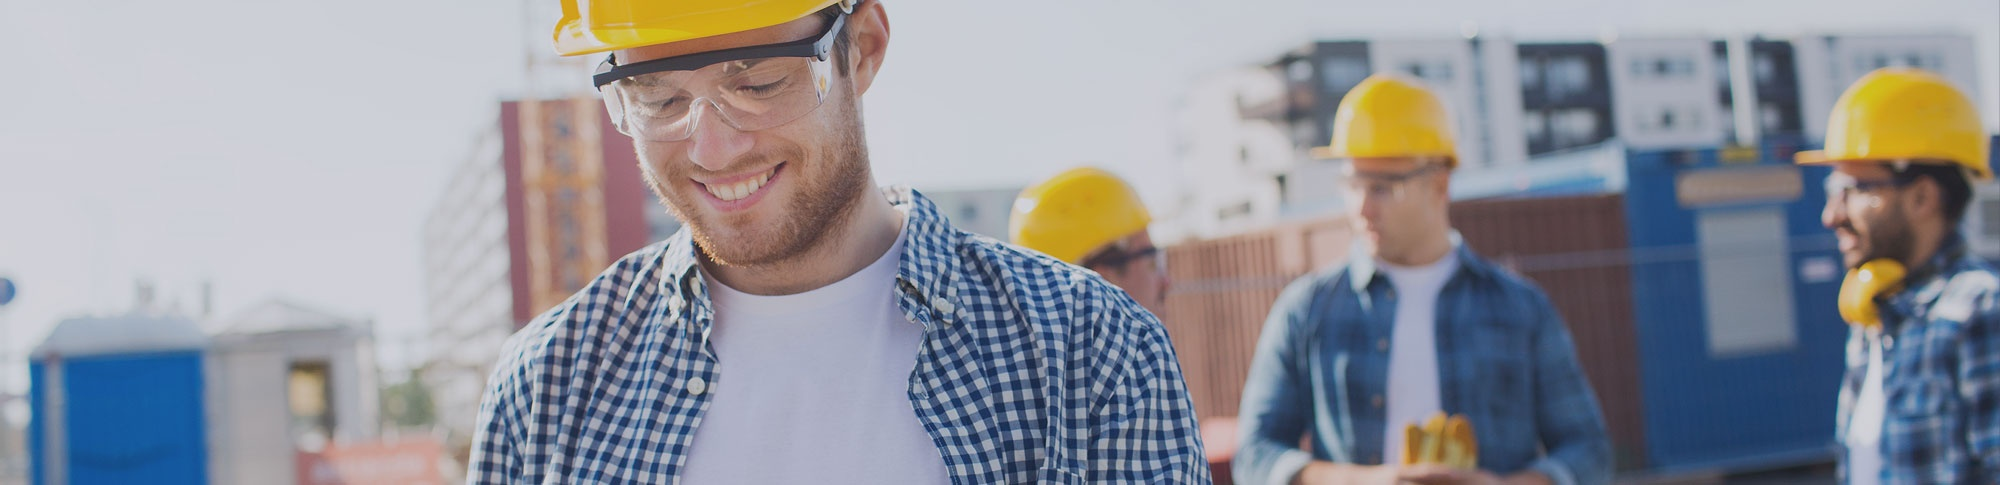yellow: (556, 3, 890, 243), (1823, 51, 1983, 265), (1009, 163, 1166, 337), (1330, 79, 1462, 254)
